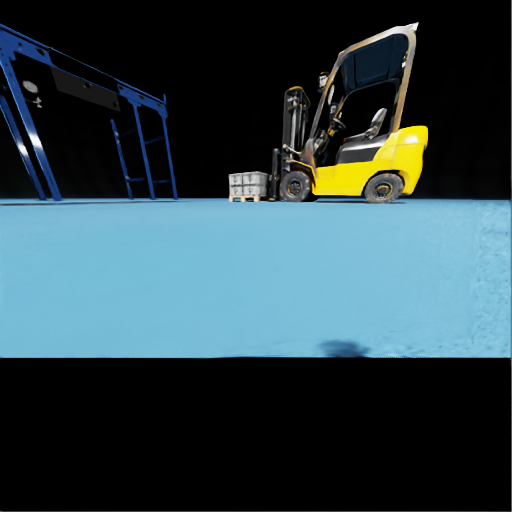transportation_area: (243, 184, 270, 194), (19, 43, 22, 46)
